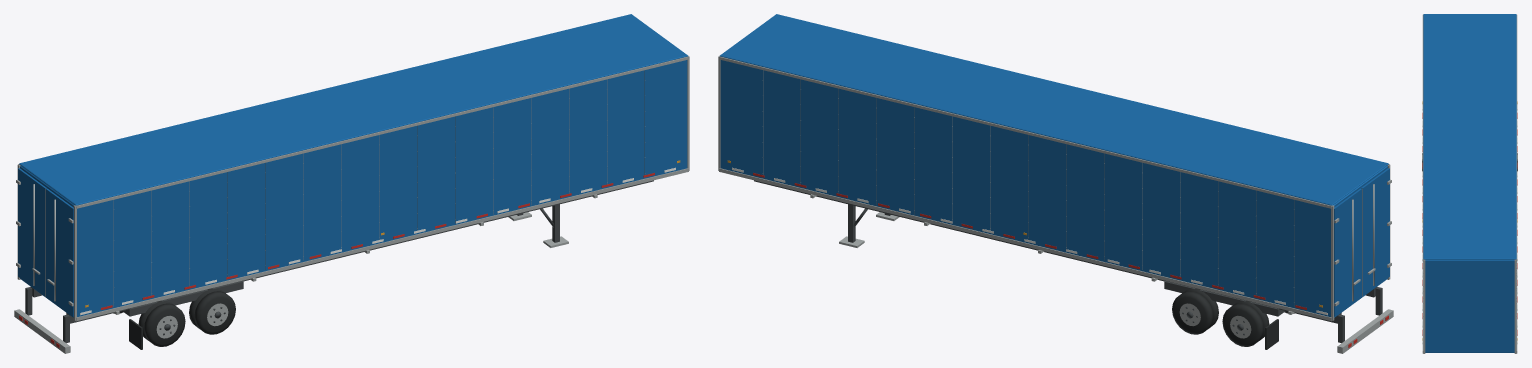
The model's file is SM_MPR4_Trailer_Blue.fbx.
3 renders of one model, left to right at view 1: azimuth 30°, elevation 25°; view 2: azimuth 150°, elevation 25°; view 3: azimuth 270°, elevation 25°, orthographic. The views are drawn at different scales.
Visible parts, largest first — view 1: SM_MPR4_Trailer_Blue; view 2: SM_MPR4_Trailer_Blue; view 3: SM_MPR4_Trailer_Blue.
Boxes of the visible parts, x1,y1,x2,y2 form: SM_MPR4_Trailer_Blue: (14,14,689,353); SM_MPR4_Trailer_Blue: (718,14,1393,353); SM_MPR4_Trailer_Blue: (1422,14,1517,353).
Bounding box in the file's own units: 1639 × 267 × 417.
